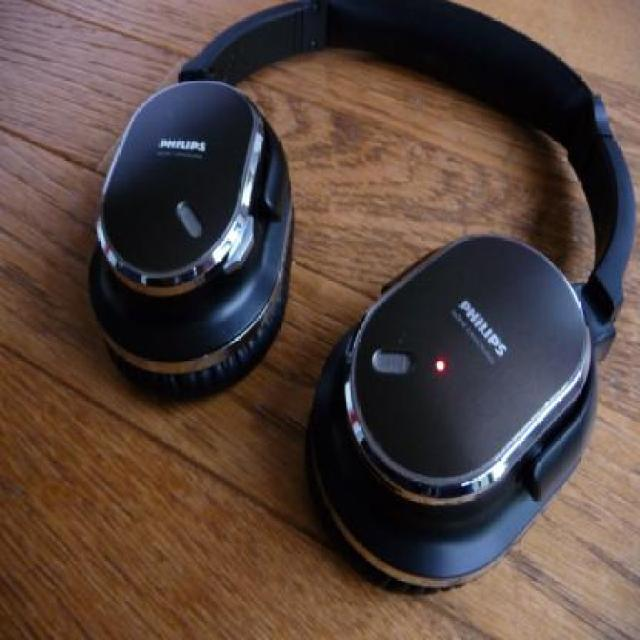earphone: (115, 0, 636, 593)
